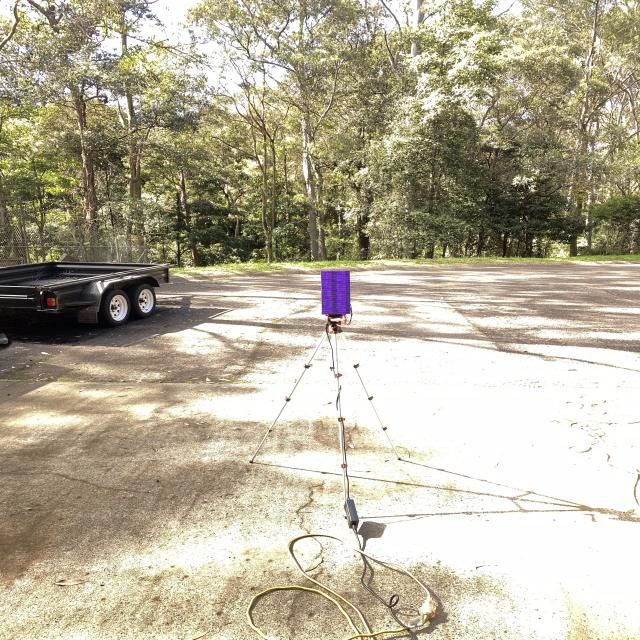matrix: (320, 270, 351, 315)
